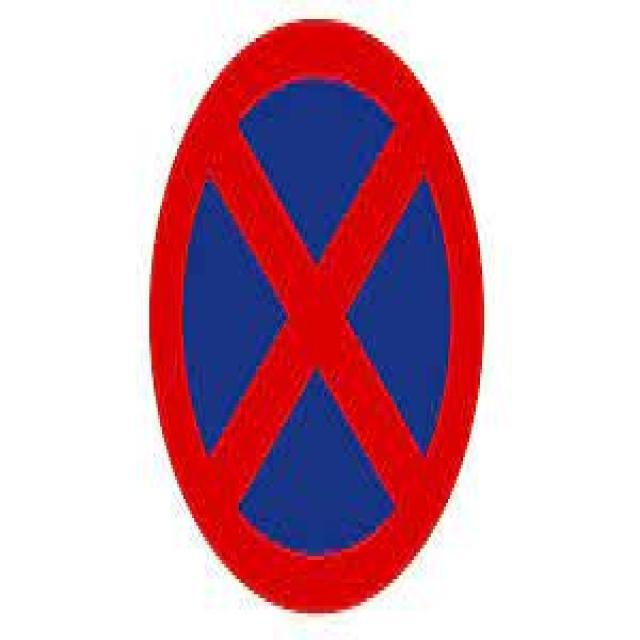no stopping or standing: (148, 20, 486, 615)
